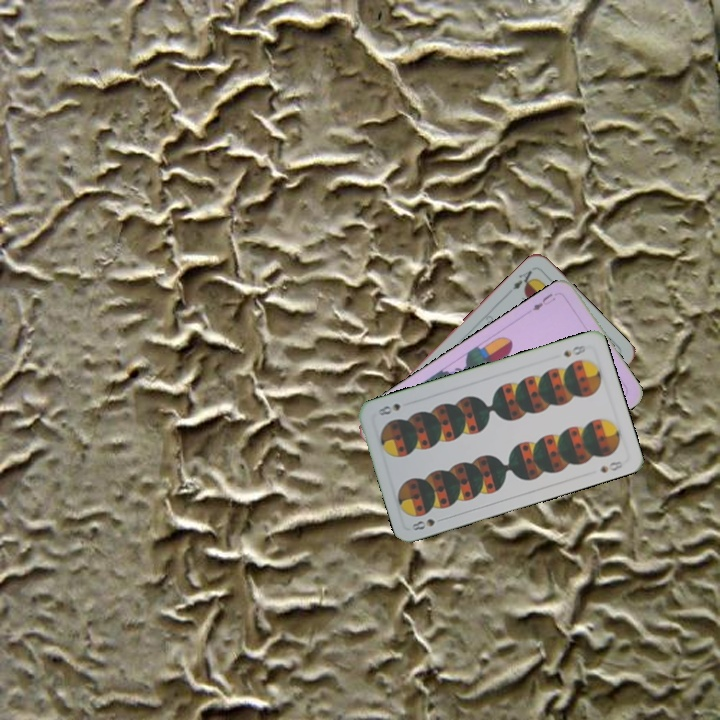EA: (509, 266, 538, 292)
EU: (528, 289, 558, 313)
S8: (408, 514, 448, 533), (559, 341, 589, 360)
